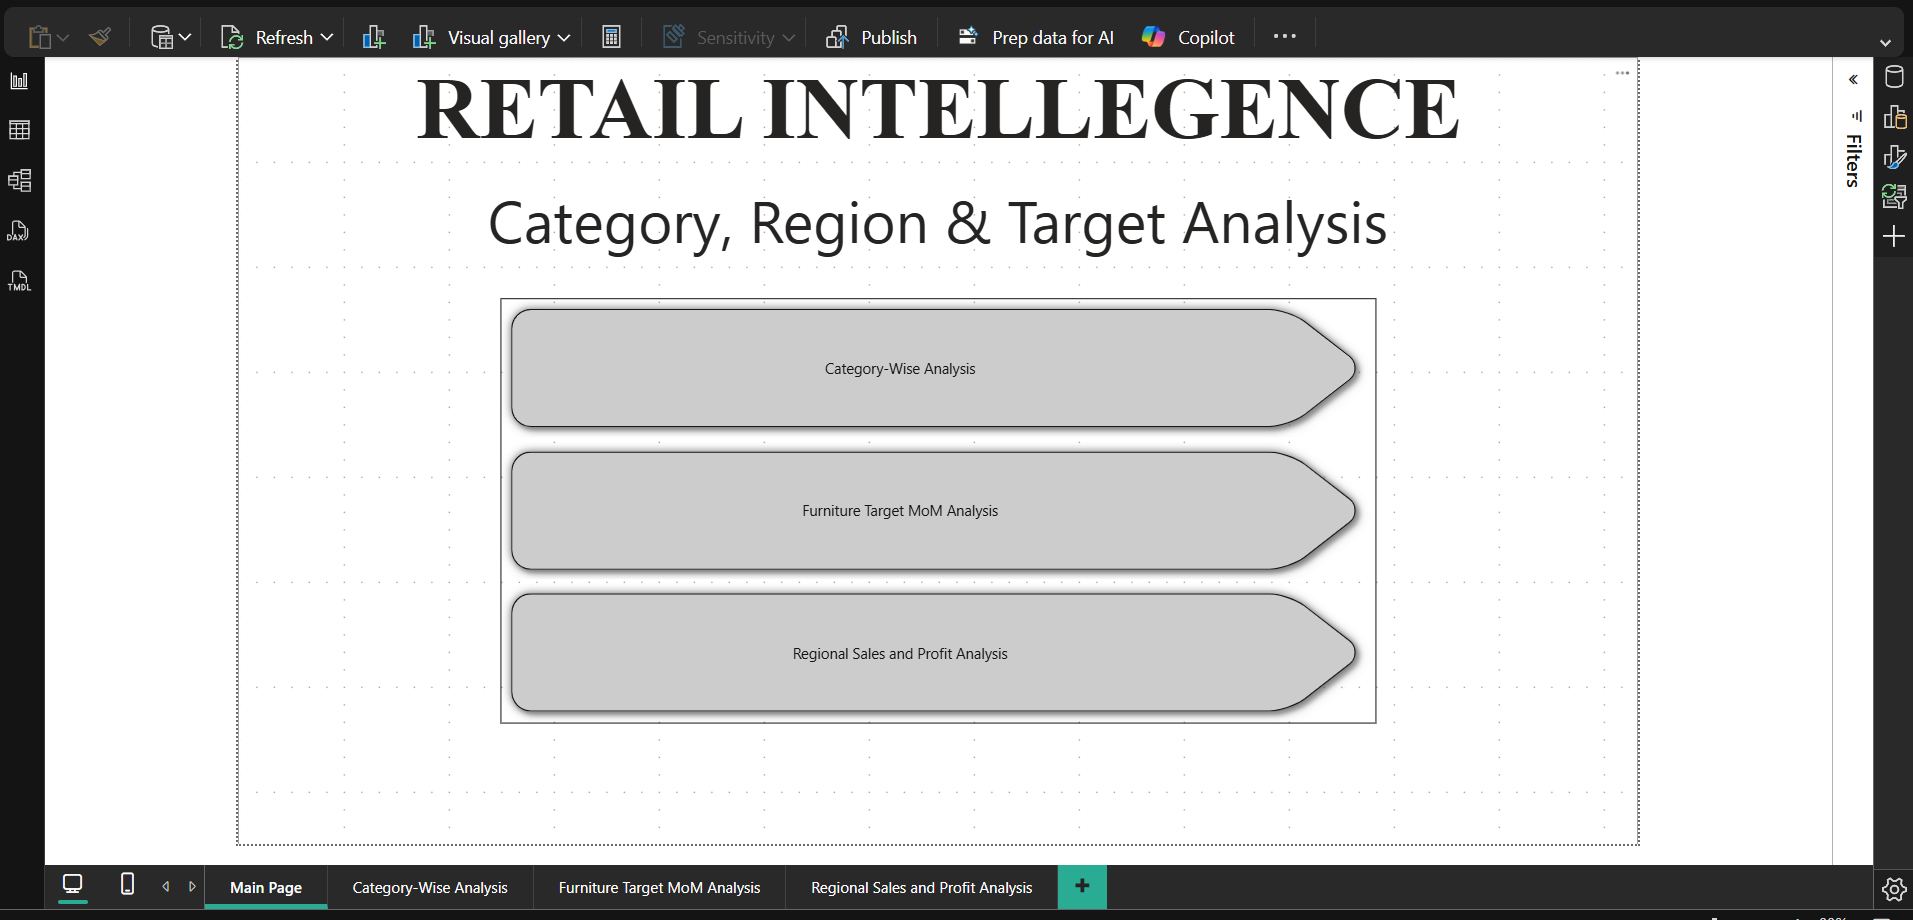

The page's visual inventory and layout, read from the dashboard file:
{"tool":"powerbi","page":{"name":"Main Page","canvas":[1280,720],"ordinal":0},"visuals":[{"type":"textbox","title":"JAR RETAIL INTELLEGENCE","box":[0,0,1280.4,720.6],"z":0},{"type":"pageNavigator","box":[224.4,220.7,800.4,389],"z":1}]}

Visuals, with their boxes on the page's 1280x720 design canvas (x1, y1, x2, y2). These are canvas units, not pixel positions in the 1913x920 screenshot, which may show the page scaled, cropped or inside an application window:
"JAR RETAIL INTELLEGENCE" textbox: [left=0, top=0, right=1280, bottom=721]
pageNavigator: [left=224, top=221, right=1025, bottom=610]
